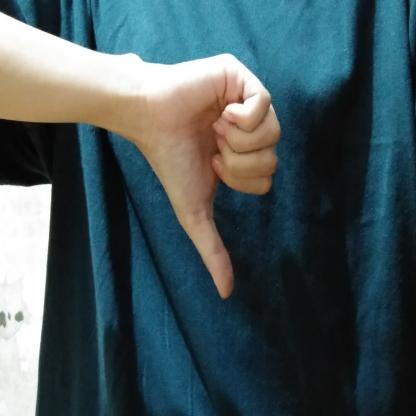no: (116, 47, 288, 312)
